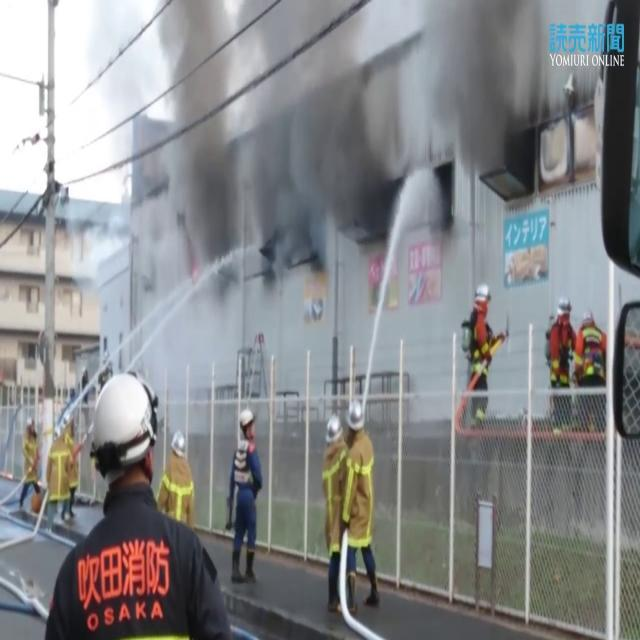Smoke: (108, 0, 570, 252)
